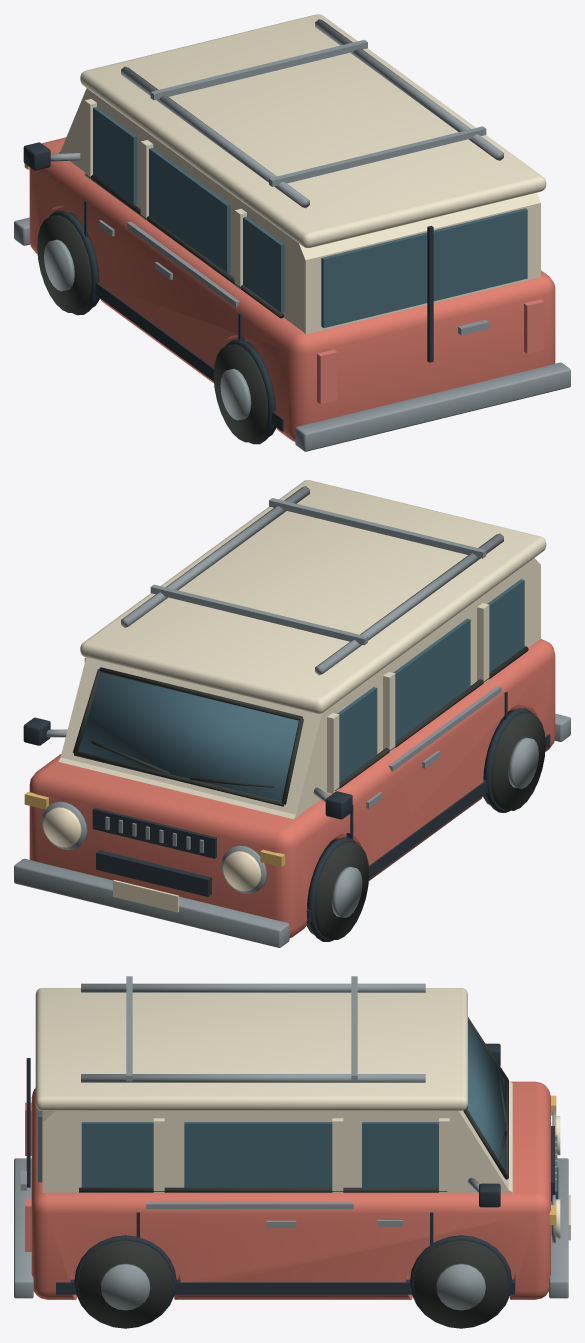
Rendered from AH03_CampVan.fbx.
The picture shows the model from 3 angles, top to bottom: view 1: azimuth 30°, elevation 25°; view 2: azimuth 150°, elevation 25°; view 3: azimuth 270°, elevation 25°; orthographic projection. The views are drawn at different scales.
Parts seen in each view (by area): view 1: AH03_CampVan_AH03_PaintCream, AH03_CampVan_AH03_PaintRose, AH03_CampVan_AH03_AutoGlass, AH03_CampVan_AH03_Metal, AH03_CampVan_AH03_Rubber, AH03_CampVan_AH03_Dark, AH03_CampVan_AH03_Rose; view 2: AH03_CampVan_AH03_PaintCream, AH03_CampVan_AH03_PaintRose, AH03_CampVan_AH03_AutoGlass, AH03_CampVan_AH03_Metal, AH03_CampVan_AH03_Rubber, AH03_CampVan_AH03_Dark, AH03_CampVan_AH03_Cream, AH03_CampVan_AH03_Gold; view 3: AH03_CampVan_AH03_PaintCream, AH03_CampVan_AH03_PaintRose, AH03_CampVan_AH03_AutoGlass, AH03_CampVan_AH03_Metal, AH03_CampVan_AH03_Rubber, AH03_CampVan_AH03_Dark, AH03_CampVan_AH03_Rose, AH03_CampVan_AH03_Cream.
Part boxes in pixels (x1,y1,x2,y2): AH03_CampVan_AH03_PaintCream: (58,14,546,334); AH03_CampVan_AH03_PaintRose: (29,137,555,441); AH03_CampVan_AH03_AutoGlass: (93,107,527,327); AH03_CampVan_AH03_Metal: (14,19,570,451); AH03_CampVan_AH03_Rubber: (37,174,283,442); AH03_CampVan_AH03_Dark: (23,142,433,444); AH03_CampVan_AH03_Rose: (317,299,544,404); AH03_CampVan_AH03_PaintCream: (58,480,546,819); AH03_CampVan_AH03_PaintRose: (29,639,555,937); AH03_CampVan_AH03_AutoGlass: (78,579,524,800); AH03_CampVan_AH03_Metal: (14,486,570,947); AH03_CampVan_AH03_Rubber: (72,646,545,939); AH03_CampVan_AH03_Dark: (23,691,550,941); AH03_CampVan_AH03_Cream: (43,807,261,912); AH03_CampVan_AH03_Gold: (24,792,285,867); AH03_CampVan_AH03_PaintCream: (35,988,512,1193); AH03_CampVan_AH03_PaintRose: (31,1081,550,1299); AH03_CampVan_AH03_AutoGlass: (38,1022,505,1187); AH03_CampVan_AH03_Metal: (14,976,568,1310); AH03_CampVan_AH03_Rubber: (78,1017,508,1328); AH03_CampVan_AH03_Dark: (26,1043,558,1322); AH03_CampVan_AH03_Rose: (25,1102,31,1251); AH03_CampVan_AH03_Cream: (555,1116,570,1240).
Size of the model in its own units: 355 by 269 by 564.
